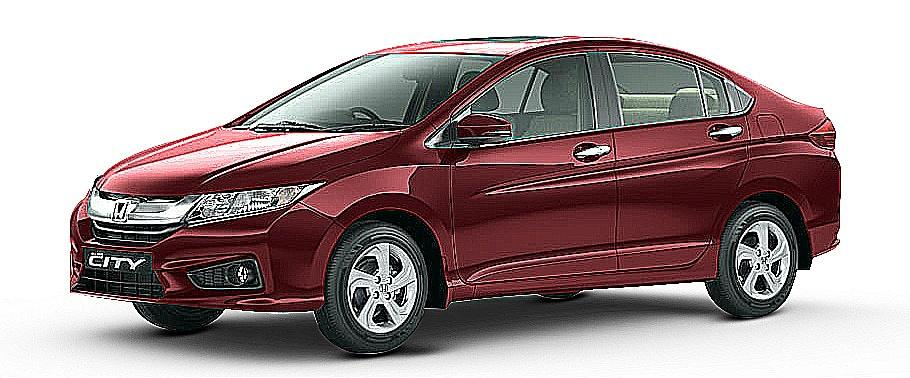Car hood: (85, 124, 403, 198)
Fender - -F-L-: (298, 114, 461, 298)
Fender - -R-L-: (723, 78, 833, 214)
Front bumper: (64, 200, 348, 317)
Headlight - -L-: (180, 179, 328, 235)
Passenger-s door - -F-L-: (442, 41, 625, 286)
Passenger-s door - -R-L-: (595, 36, 761, 276)
Rear bumper: (791, 151, 853, 259)
Rear light - -L-: (805, 117, 837, 153)
Side bumper - -L-: (435, 228, 724, 315)
Side mirror - -L-: (449, 113, 516, 148)
